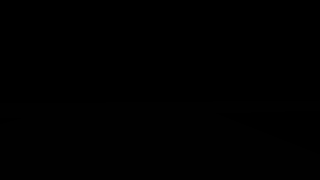turn_left: (229, 26, 260, 57)
